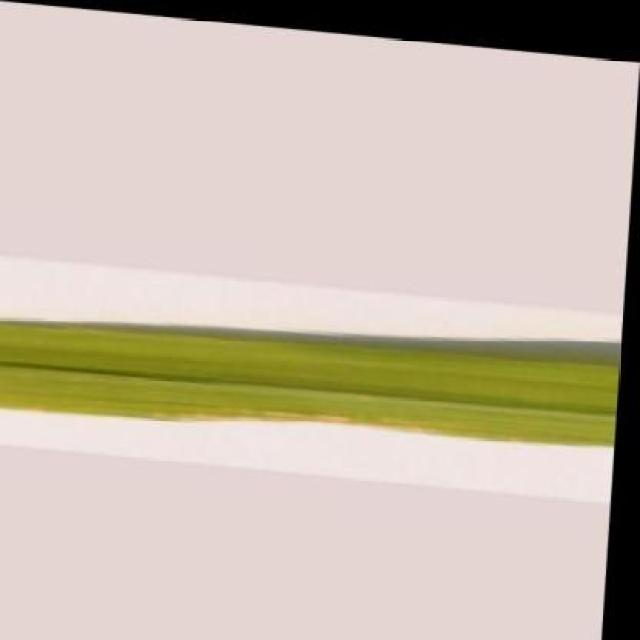Brown_Spot: (0, 289, 625, 457)
